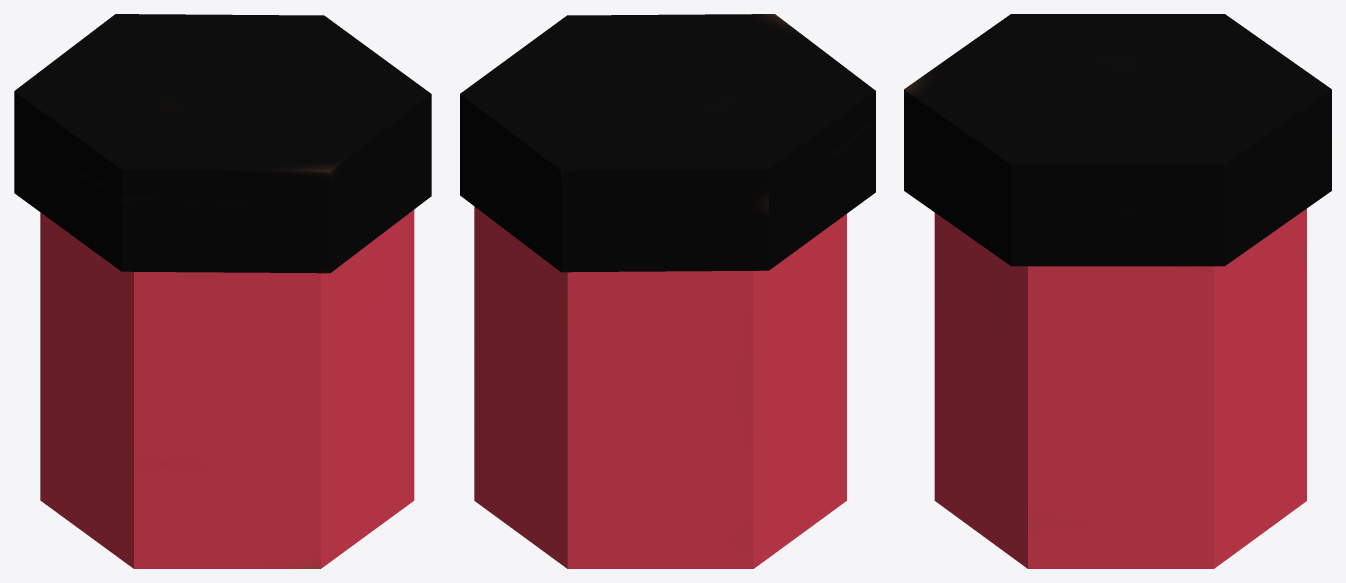
Rendered from Paint.fbx.
3 renders of one model, left to right at view 1: azimuth 30°, elevation 25°; view 2: azimuth 150°, elevation 25°; view 3: azimuth 270°, elevation 25°, orthographic.
Visible parts, largest first — view 1: Paint; view 2: Paint; view 3: Paint.
Boxes of the visible parts, x1,y1,x2,y2 form: Paint: (14, 14, 431, 568); Paint: (460, 14, 875, 568); Paint: (904, 14, 1331, 568).
Bounding box in the file's own units: 192 × 242 × 230.
1 material, 1 textured.
